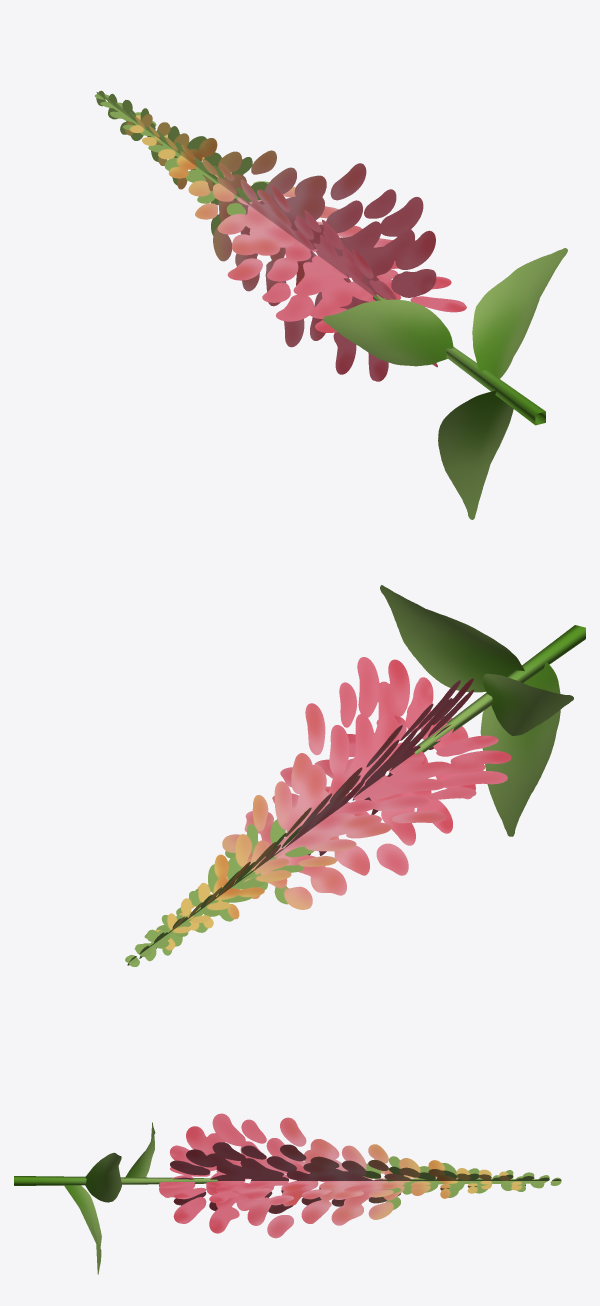
The model's file is foxglove xrotat.fbx.
The picture shows the model from 3 angles, top to bottom: view 1: azimuth 30°, elevation 25°; view 2: azimuth 150°, elevation 25°; view 3: azimuth 270°, elevation 25°; orthographic projection. The views are drawn at different scales.
Visible parts, largest first — view 1: foxglove.005; view 2: foxglove.005; view 3: foxglove.005.
Part boxes in pixels (x1,y1,x2,y2): foxglove.005: [94, 90, 567, 519]; foxglove.005: [125, 585, 585, 966]; foxglove.005: [14, 1113, 561, 1274].
Size of the model in its own units: 63.97 by 64.37 by 195.
